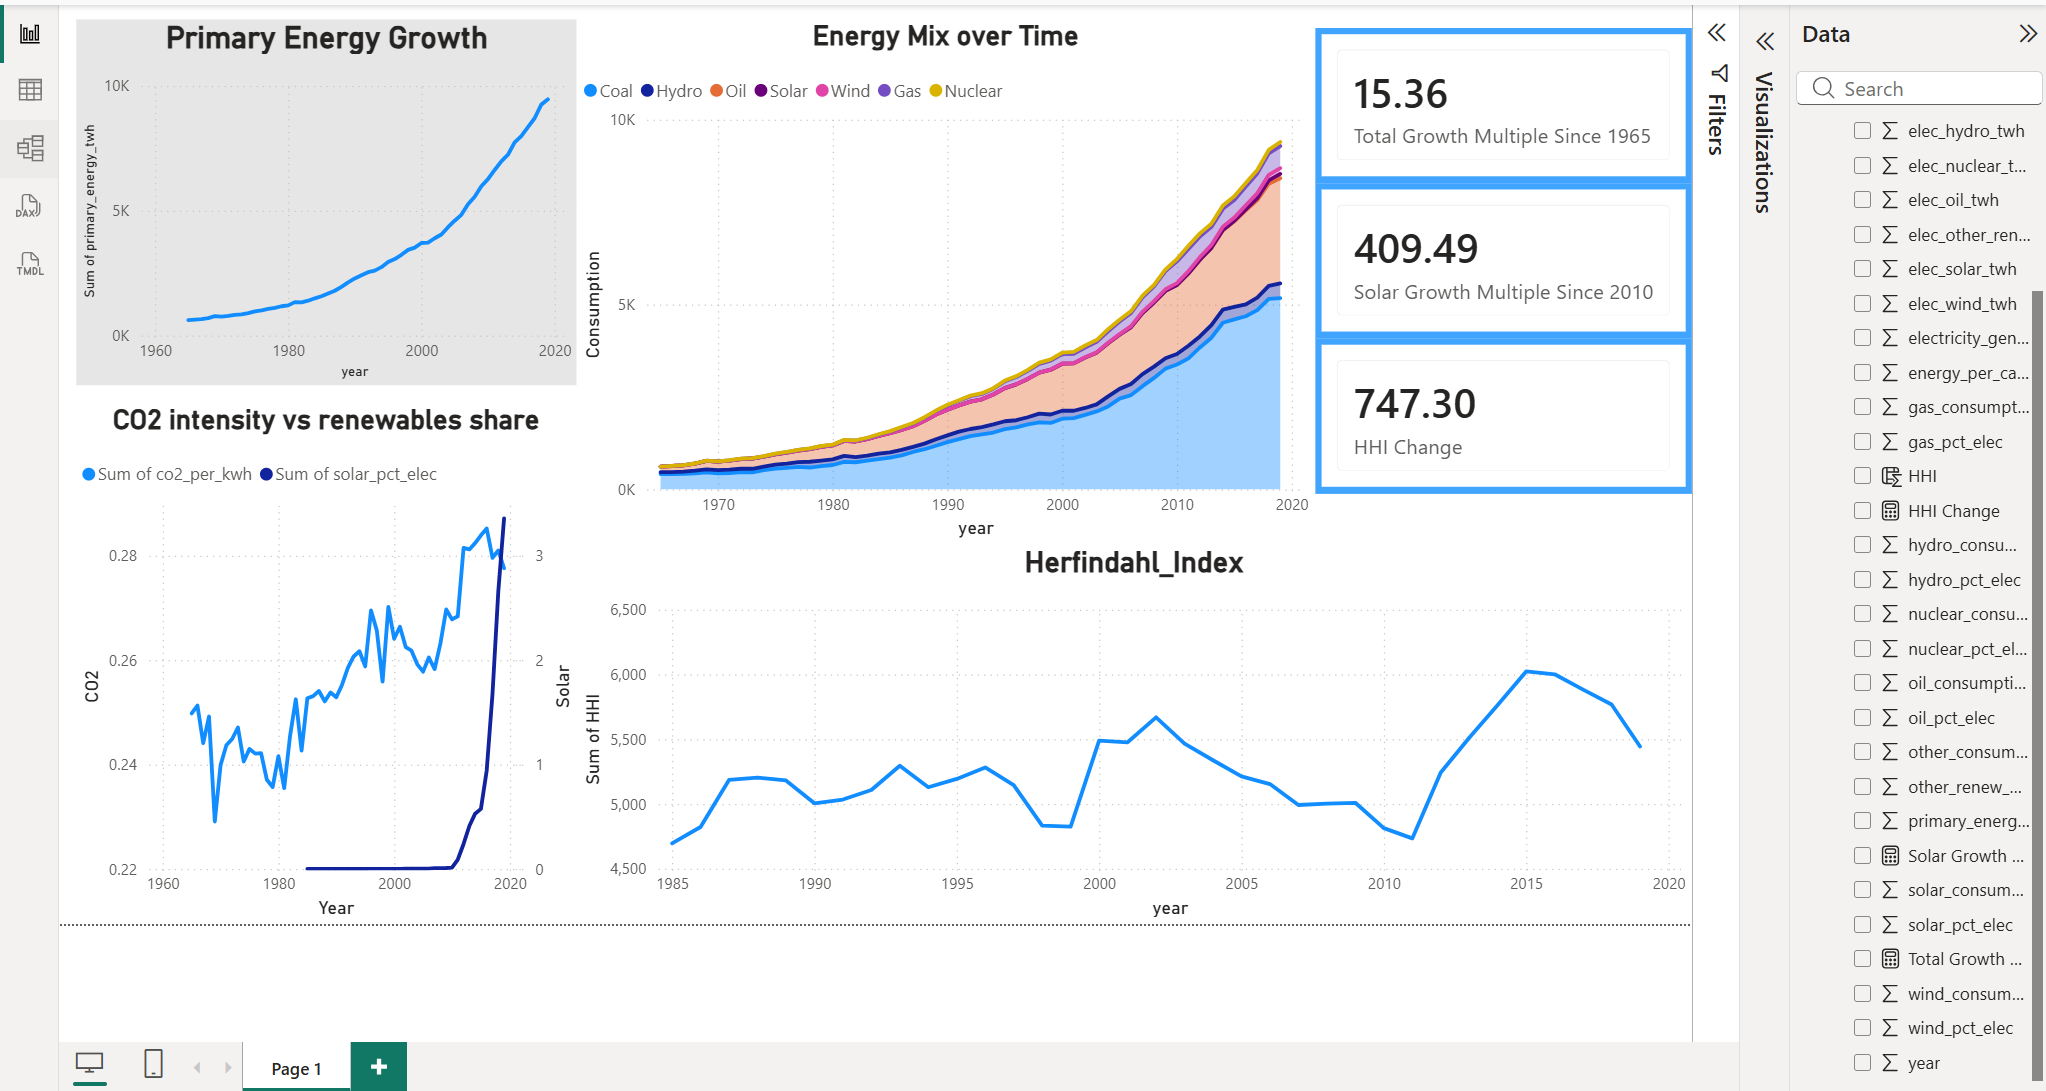

Layout of this report page (visuals, bound fields, positions):
{"tool":"powerbi","page":{"name":"Page 1","canvas":[1280,720],"ordinal":0},"visuals":[{"type":"lineChart","title":"Primary Energy Growth","fields":{"Category":["india_energy energy_india_clean.year"],"Y":["Sum(india_energy energy_india_clean.primary_energy_twh)"]},"box":[13,10.9,392.9,286.5],"z":0},{"type":"stackedAreaChart","title":"Energy Mix over Time","fields":{"Category":["india_energy energy_india_clean.year"],"Y":["Sum(india_energy energy_india_clean.coal_consumption_twh)","Sum(india_energy energy_india_clean.hydro_consumption_twh)","Sum(india_energy energy_india_clean.oil_consumption_twh)","Sum(india_energy energy_india_clean.solar_consumption_twh)","Sum(india_energy energy_india_clean.wind_consumption_twh)","Sum(india_energy energy_india_clean.gas_consumption_twh)","Sum(india_energy energy_india_clean.nuclear_consumption_twh)"]},"box":[405.9,10.9,578.5,411.3],"z":1000},{"type":"lineChart","title":"CO2 intensity vs renewables share","fields":{"Category":["india_energy energy_india_clean.year"],"Y":["Sum(india_energy energy_india_clean.co2_per_kwh)"],"Y2":["Sum(india_energy energy_india_clean.solar_pct_elec)"]},"box":[11.9,311.5,394,408.1],"z":2000},{"type":"lineChart","title":"Herfindahl_Index","fields":{"Category":["india_energy energy_india_clean.year"],"Y":["Sum(india_energy energy_india_clean.HHI)"]},"box":[405.9,422.2,873.7,297.4],"z":3000},{"type":"cardVisual","fields":{"Data":["india_energy energy_india_clean.Growth Multiple Since 1965"]},"box":[984.4,18.4,295.2,121.6],"z":4000},{"type":"cardVisual","fields":{"Data":["india_energy energy_india_clean.Solar Growth Multiple Since 2010"]},"box":[984.4,140,295.2,121.6],"z":5000},{"type":"cardVisual","fields":{"Data":["india_energy energy_india_clean.HHI Change"]},"box":[984.4,261.6,295.2,121.6],"z":6000}]}

Visuals, with their boxes on the page's 1280x720 design canvas (x1, y1, x2, y2). These are canvas units, not pixel positions in the 2046x1091 screenshot, which may show the page scaled, cropped or inside an application window:
"Primary Energy Growth" lineChart: 13:11:406:297
"Energy Mix over Time" stackedAreaChart: 406:11:984:422
"CO2 intensity vs renewables share" lineChart: 12:312:406:720
"Herfindahl_Index" lineChart: 406:422:1280:720
cardVisual - india_energy energy_india_clean.Growth Multiple Since 1965: 984:18:1280:140
cardVisual - india_energy energy_india_clean.Solar Growth Multiple Since 2010: 984:140:1280:262
cardVisual - india_energy energy_india_clean.HHI Change: 984:262:1280:383
